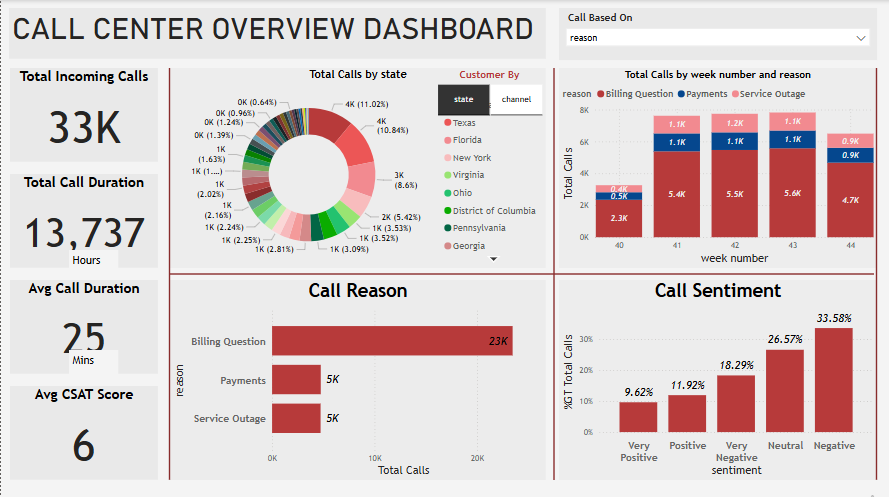

Layout of this report page (visuals, bound fields, positions):
{"tool":"powerbi","page":{"name":"Page 1","canvas":[1280,720],"ordinal":0},"visuals":[{"type":"textbox","box":[11.5,11.5,773.3,73.4],"z":0},{"type":"card","title":"Total Incoming Calls","fields":{"Values":["Call Center.Total Calls"]},"box":[13,97.9,213.1,135.4],"z":1000},{"type":"card","title":"Avg Call Duration","fields":{"Values":["Call Center.Averge Call Time in Mins"]},"box":[13,403.2,213.1,135.4],"z":2000},{"type":"card","title":"Avg CSAT Score","fields":{"Values":["Call Center.AVG SATISFACTION SCORE"]},"box":[13,555.8,213.1,135.4],"z":3000},{"type":"card","title":"Total Call Duration","fields":{"Values":["Call Center.Total Call Duration in Hrs"]},"box":[13,250.6,213.1,135.4],"z":4000},{"type":"textbox","box":[97.9,360,70.6,34.6],"z":5000},{"type":"textbox","box":[97.9,504,70.6,34.6],"z":6000},{"type":"clusteredBarChart","title":"Call Reason","fields":{"Category":["Call Center.reason"],"Y":["Call Center.Total Calls"]},"box":[243.4,403.2,541.4,288],"z":7000},{"type":"clusteredColumnChart","title":"Call Sentiment","fields":{"Category":["Call Center.sentiment"],"Y":["Call Center.Total Calls"]},"box":[803.5,403.2,457.9,288],"z":8000},{"type":"donutChart","fields":{"Category":["Call Center.state"],"Y":["Call Center.Total Calls"]},"box":[243.4,97.9,541.4,288],"z":9000},{"type":"columnChart","fields":{"Series":["Call Center.reason"],"Category":["Call Center.week number"],"Y":["Call Center.Total Calls"]},"box":[804,98,458,288],"z":10000},{"type":"slicer","title":"Customer By","fields":{"Values":["Customer By.Customer By"]},"box":[603.4,97.9,200.2,74.9],"z":11000},{"type":"slicer","fields":{"Values":["Call Based On.Call Based On"]},"box":[803.5,11.5,457.9,74.9],"z":12000},{"type":"shape","box":[243.4,368.6,1013.8,51.8],"z":13000},{"type":"shape","box":[784.8,97.9,23,593.3],"z":14000},{"type":"shape","box":[239,97.9,7.2,593.3],"z":15000},{"type":"shape","box":[1251.4,97.9,18.7,593.3],"z":16000}]}

Visuals, with their boxes in screenshot pixels (x1, y1, x2, y2), scaled from the page's 1280x720 canvas onto the 889x497 screenshot:
textbox: bbox(8, 8, 545, 59)
"Total Incoming Calls" card: bbox(9, 68, 157, 161)
"Avg Call Duration" card: bbox(9, 278, 157, 372)
"Avg CSAT Score" card: bbox(9, 384, 157, 477)
"Total Call Duration" card: bbox(9, 173, 157, 266)
textbox: bbox(68, 248, 117, 272)
textbox: bbox(68, 348, 117, 372)
"Call Reason" clusteredBarChart: bbox(169, 278, 545, 477)
"Call Sentiment" clusteredColumnChart: bbox(558, 278, 876, 477)
donutChart - Call Center.state x Call Center.Total Calls: bbox(169, 68, 545, 266)
columnChart - Call Center.reason x Call Center.week number: bbox(558, 68, 876, 266)
"Customer By" slicer: bbox(419, 68, 558, 119)
slicer - Call Based On.Call Based On: bbox(558, 8, 876, 60)
shape: bbox(169, 254, 873, 290)
shape: bbox(545, 68, 561, 477)
shape: bbox(166, 68, 171, 477)
shape: bbox(869, 68, 882, 477)
